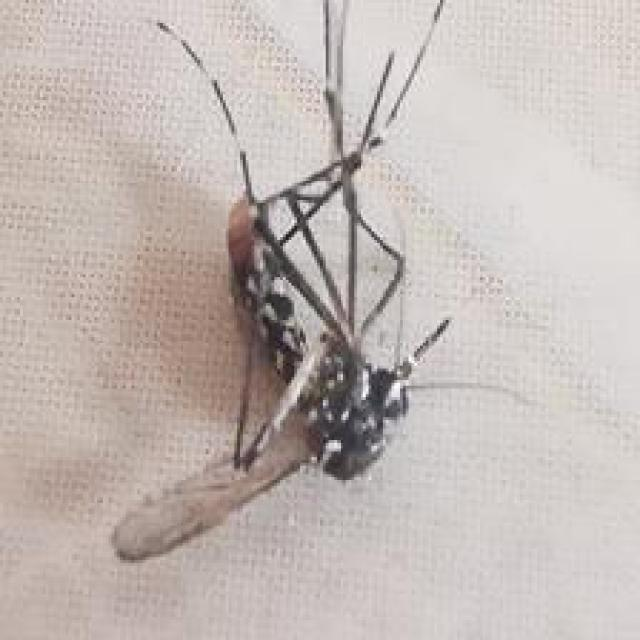Aedes albopictus: (107, 0, 639, 563)
